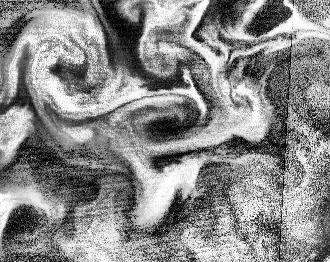AE: (27, 17, 115, 117), (124, 88, 206, 148)
